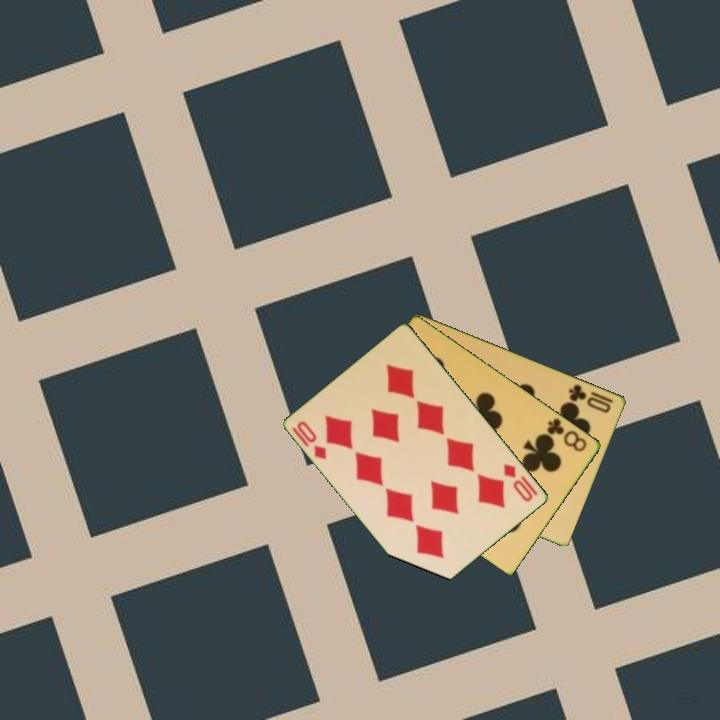10c: (565, 380, 614, 416)
10d: (289, 417, 330, 462), (500, 460, 536, 505)
8c: (543, 414, 590, 455)
